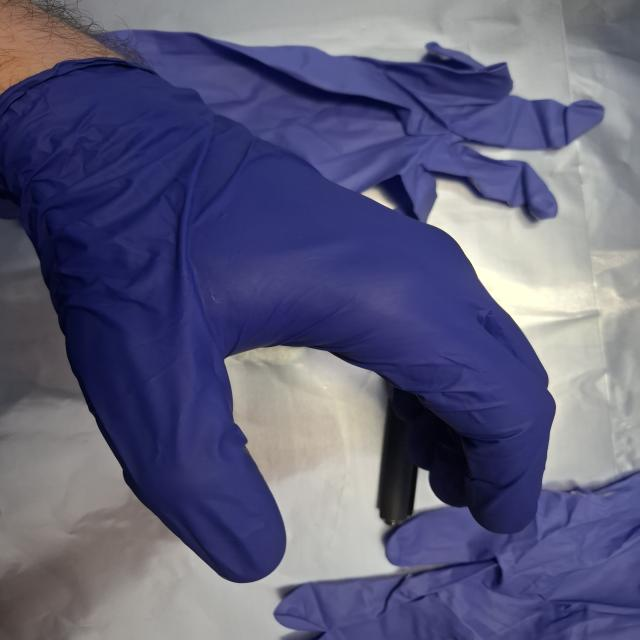glove_on: (0, 51, 559, 587)
